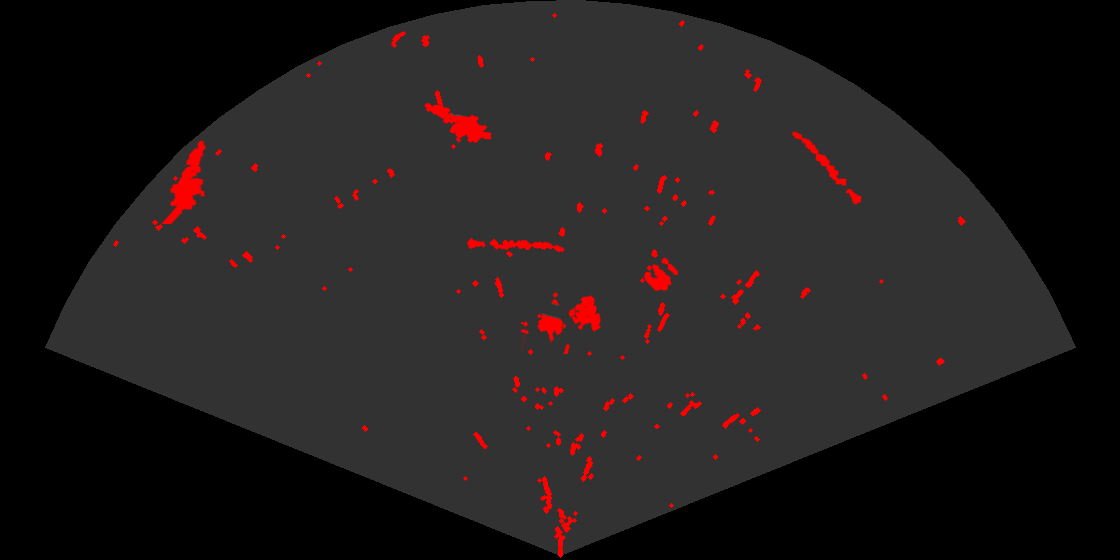ball: (643, 256, 680, 293)
cage: (521, 291, 602, 354)
chain: (791, 130, 863, 206), (466, 236, 566, 254)
frogman: (160, 139, 208, 224), (423, 102, 491, 145)
